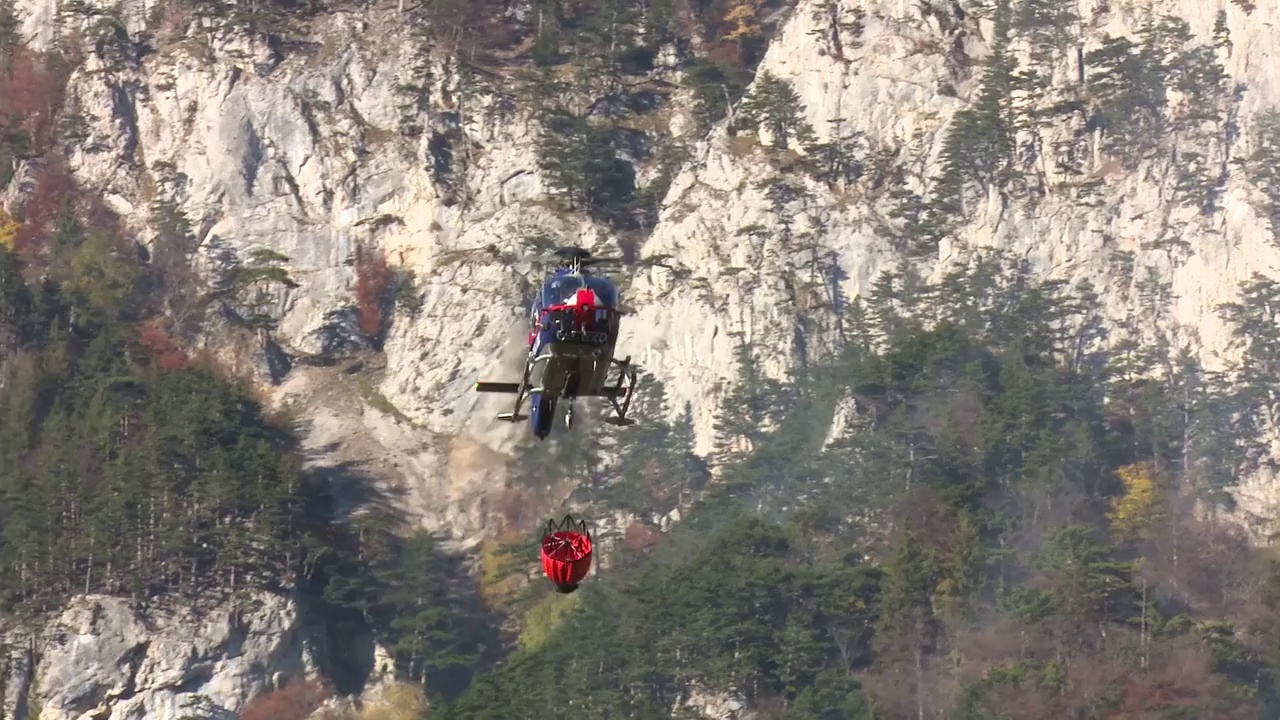heli: (477, 248, 637, 433)
